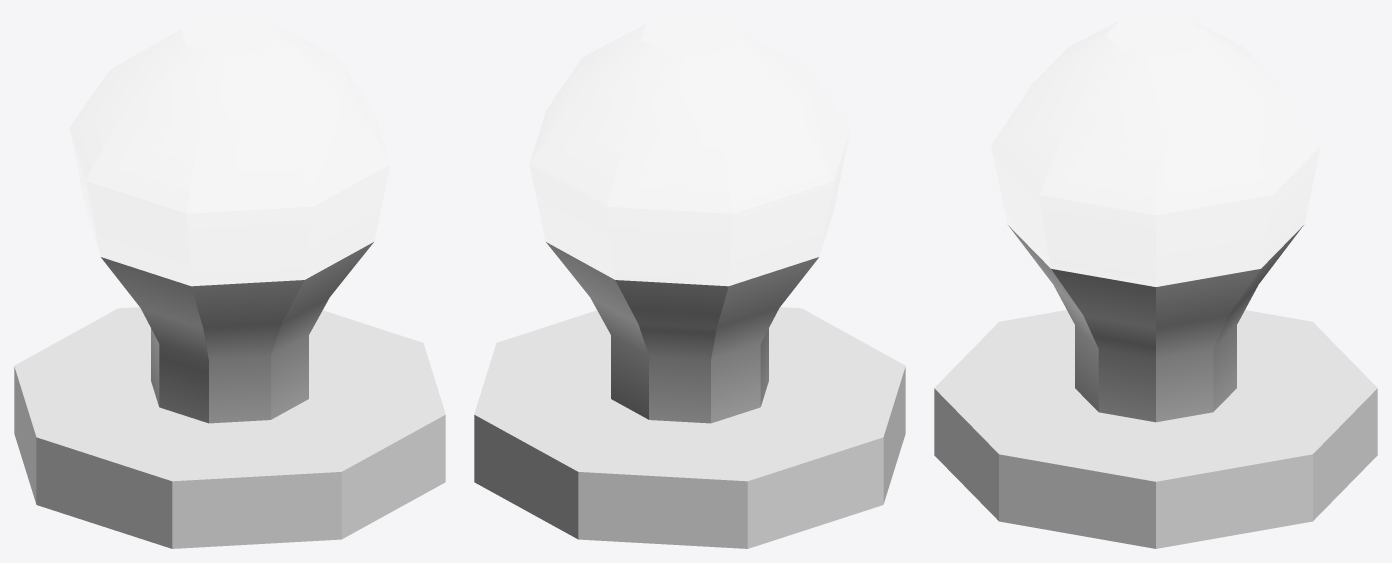
The model's file is Lightbulb.fbx.
3 views of the same model, side by side, from view 1: azimuth 30°, elevation 25°; view 2: azimuth 150°, elevation 25°; view 3: azimuth 270°, elevation 25° (orthographic).
Parts seen in each view (by area): view 1: Lightbulb; view 2: Lightbulb; view 3: Lightbulb.
Part boxes in pixels (left/top/right/bottom): Lightbulb: left=14, top=14, right=445, bottom=548; Lightbulb: left=474, top=14, right=905, bottom=548; Lightbulb: left=934, top=14, right=1377, bottom=548.
Bounding box in the file's own units: 32.39 × 33.83 × 32.39.
